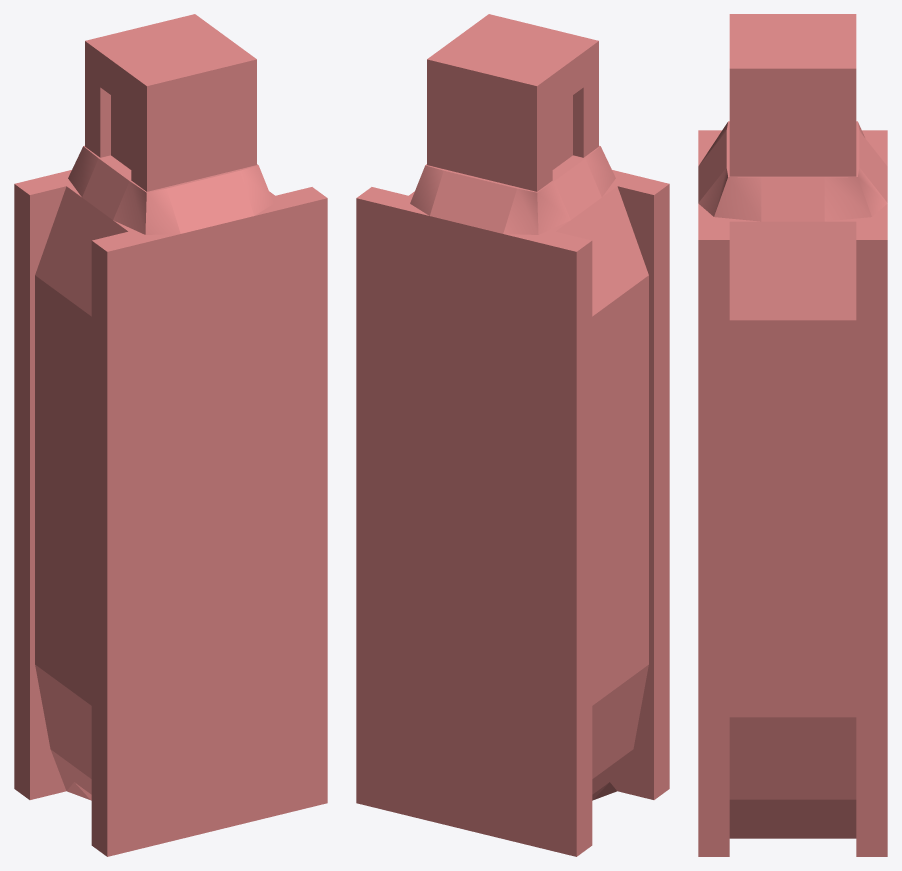
File: gate_pillar.fbx
3 views of the same model, side by side, from view 1: azimuth 30°, elevation 25°; view 2: azimuth 150°, elevation 25°; view 3: azimuth 270°, elevation 25° (orthographic).
Parts seen in each view (by area): view 1: PM3D_Cylinder3D_3; view 2: PM3D_Cylinder3D_3; view 3: PM3D_Cylinder3D_3.
Boxes of the visible parts, left/top/right/bottom form: PM3D_Cylinder3D_3: left=14, top=14, right=327, bottom=856; PM3D_Cylinder3D_3: left=356, top=14, right=669, bottom=856; PM3D_Cylinder3D_3: left=698, top=14, right=887, bottom=856.
Size of the model in its own units: 0.5472 by 1.77 by 0.4.
